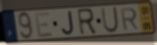9: (18, 10, 35, 41)
E: (34, 11, 54, 39)
J: (61, 10, 76, 37)
R: (76, 7, 98, 37), (120, 7, 140, 32)
U: (100, 6, 120, 34)
